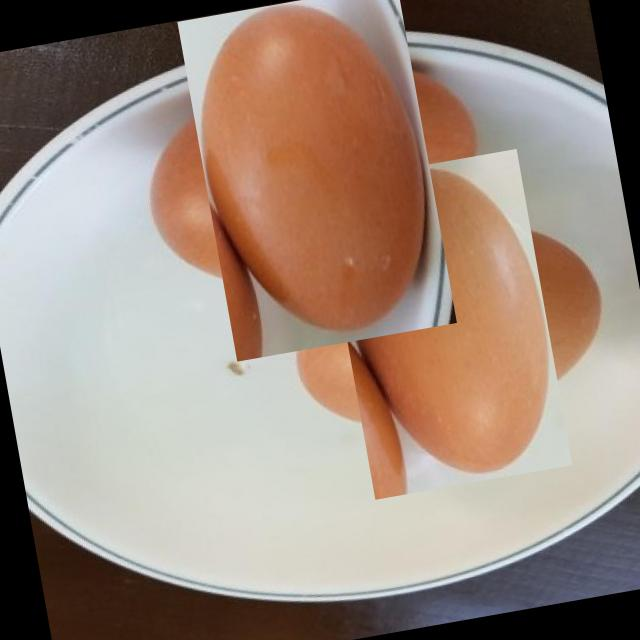eggs: (152, 6, 482, 336), (294, 174, 596, 476)
